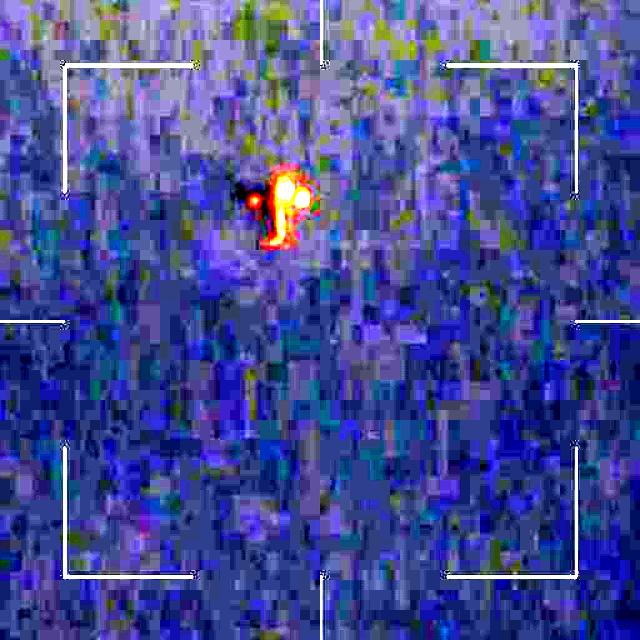bird: (230, 170, 316, 254)
